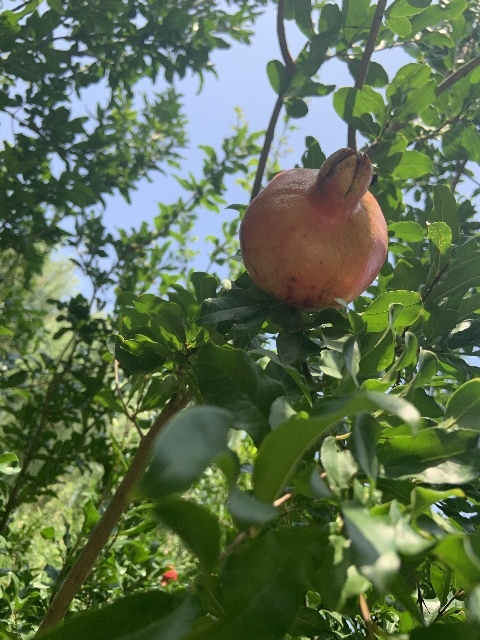ripe: (239, 147, 387, 310)
